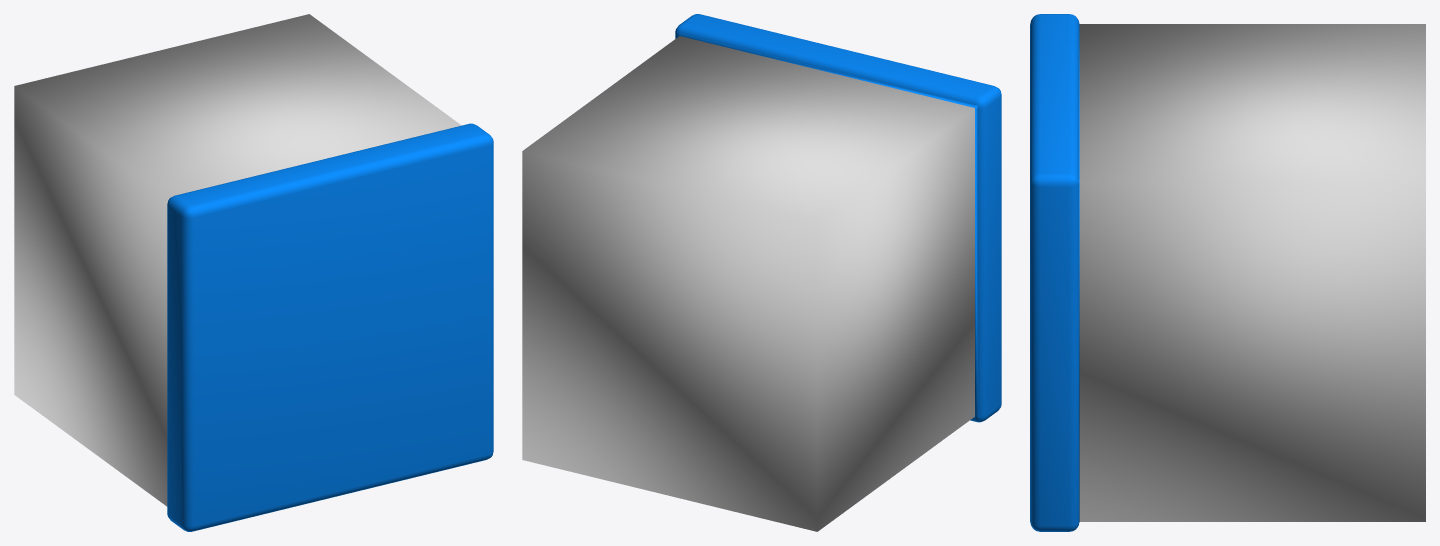
The model's file is Base_1_Tall.glb.
3 views of the same model, side by side, from view 1: azimuth 30°, elevation 25°; view 2: azimuth 150°, elevation 25°; view 3: azimuth 270°, elevation 25° (orthographic). The views are drawn at different scales.
Parts seen in each view (by area): view 1: Base 1 Tall; view 2: Base 1 Tall; view 3: Base 1 Tall.
Part boxes in pixels (left/top/right/bottom): Base 1 Tall: left=14, top=14, right=493, bottom=531; Base 1 Tall: left=522, top=14, right=1001, bottom=531; Base 1 Tall: left=1030, top=14, right=1425, bottom=531.
Size of the model in its own units: 7.98 by 7.98 by 7.99.
